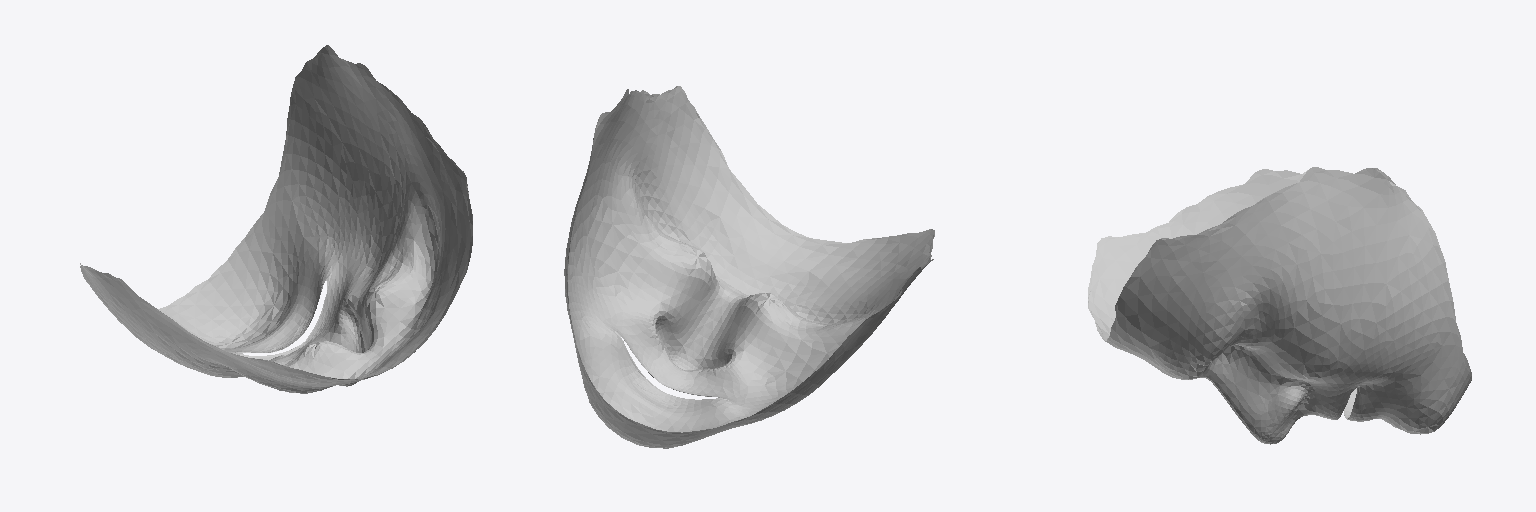
Rendered from face_gab_sfm38.obj.
3 views of the same model, side by side, from view 1: azimuth 30°, elevation 25°; view 2: azimuth 150°, elevation 25°; view 3: azimuth 270°, elevation 25° (orthographic).
Size of the model in its own units: 164 by 153 by 178.